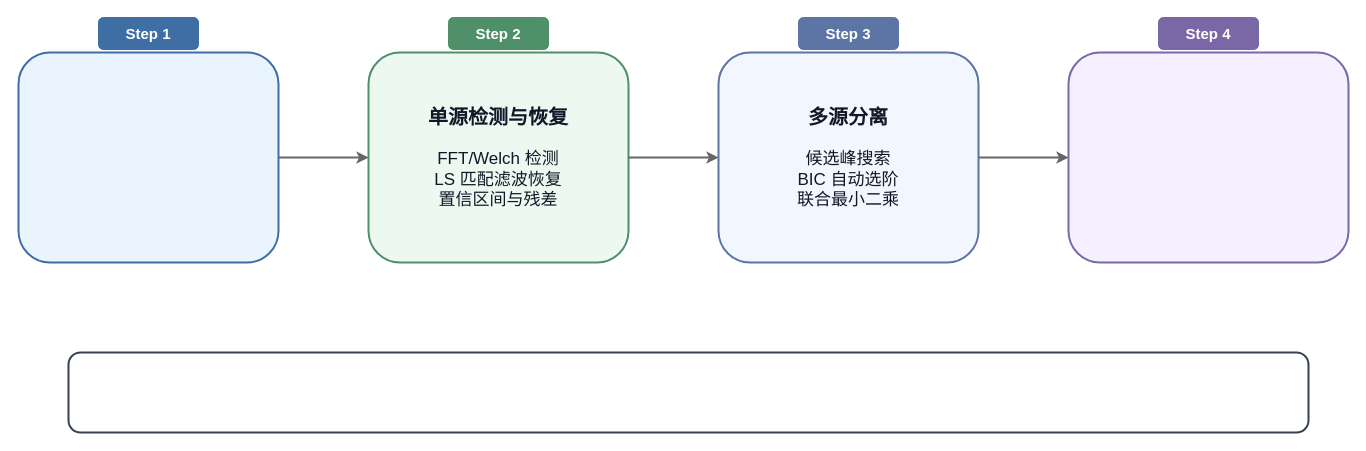
Some shapes in this 1366 by 451 pixel diagram are drawn without their labels. The centre of each missing label's shape, as x and y in pixels:
数据准备 采样校验 去均值与谱窗 噪声基底估计: (148,157)
系统优化与验证 衰减传播建模 NP-ROC 检验 MRC 融合与 max-min 布局: (1208,157)
输出链路： 频率 f 0 / 噪声 σ → 振幅 A / 相位 φ → 多源集合 {f i , A i , φ i } → 传感器坐标与系统 P D: (688,392)
